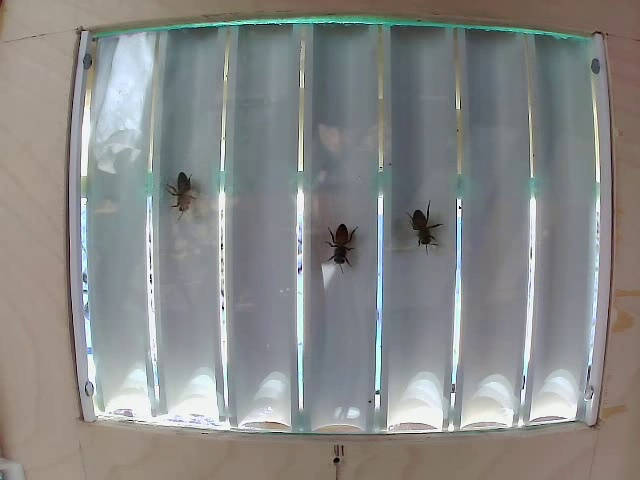bee: (401, 191, 449, 255), (172, 165, 217, 226), (327, 223, 369, 270)
